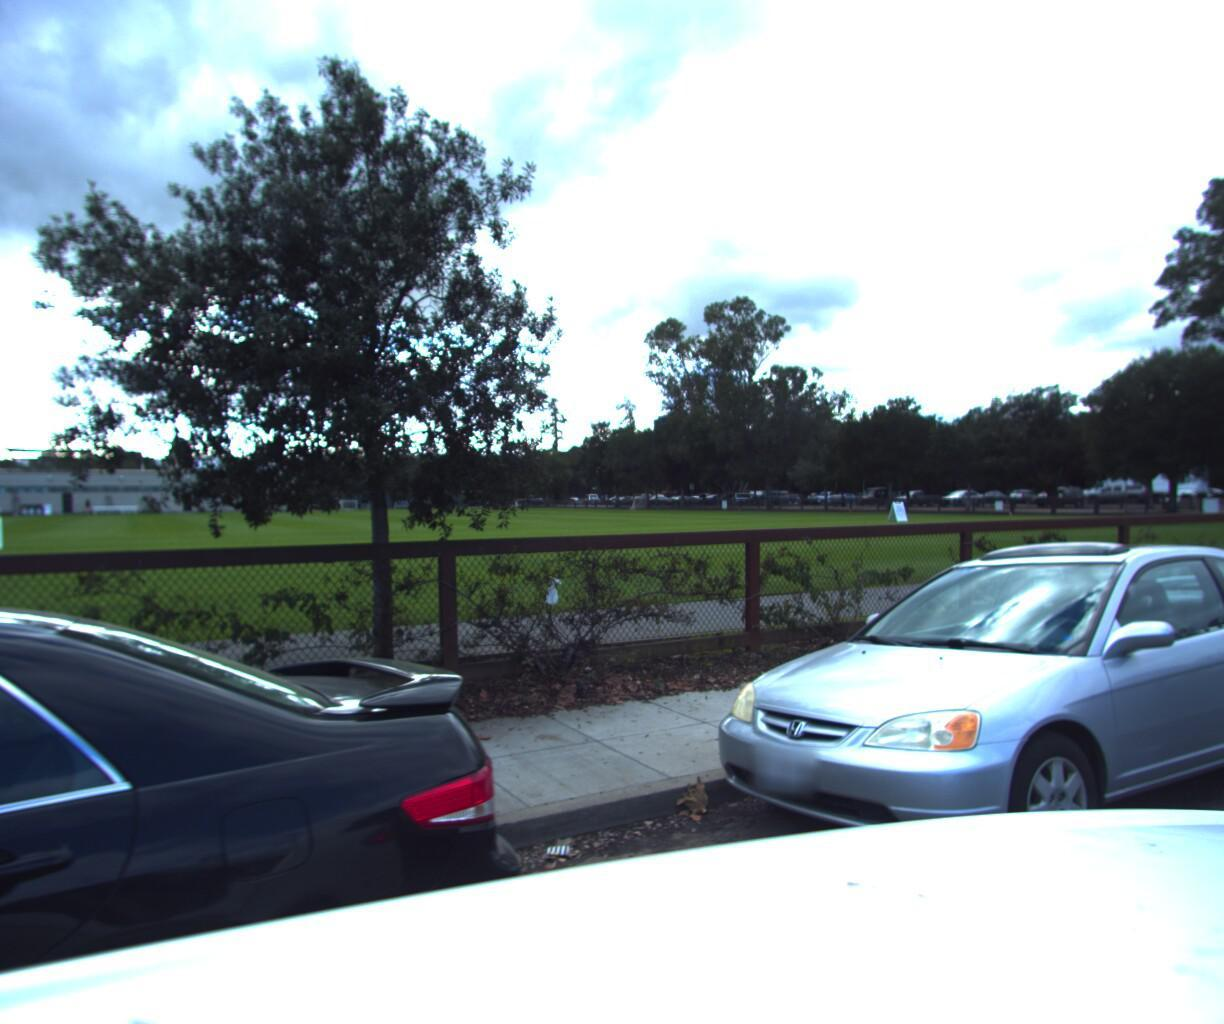car: (676, 522, 1224, 952)
